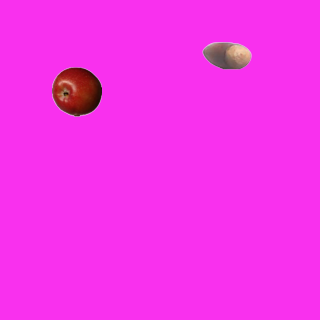Apple Braeburn: (51, 66, 101, 116)
Hazelnut: (201, 30, 251, 80)
